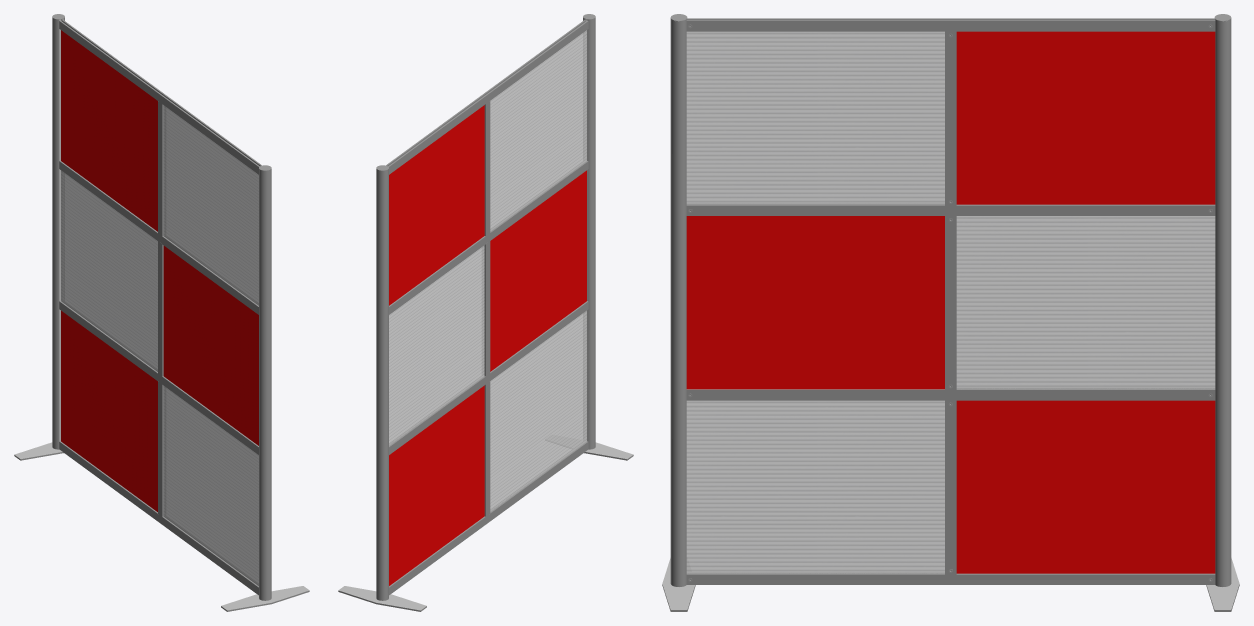
Rendered from Wall.fbx.
3 views of the same model, side by side, from view 1: azimuth 30°, elevation 25°; view 2: azimuth 150°, elevation 25°; view 3: azimuth 270°, elevation 25° (orthographic). The views are drawn at different scales.
Parts seen in each view (by area): view 1: Group3, Group2, Group4, Group7, Group6, Group8, Group_369_2, Group_369_1, Group_21_4, Group_21_2, Group_21_1, Group_21_3 (+5 smaller); view 2: Group7, Group6, Group8, Group3, Group2, Group4, Group_369_1, Group_369_2, Group_21_4, Group_21_2, Group_21_1, Group_21_3 (+5 smaller); view 3: Group2, Group3, Group4, Group6, Group7, Group8, Group_369_1, Group_369_2, Group_21_4, Group_21_1, Group_21_2, Group_21_3 (+5 smaller).
Part boxes in pixels (x1,y1,x2,y2): Group3: (61, 310, 157, 511); Group2: (61, 30, 157, 231); Group4: (61, 170, 157, 371); Group7: (163, 386, 258, 585); Group6: (163, 105, 258, 305); Group8: (163, 246, 258, 445); Group_369_2: (259, 169, 271, 600); Group_369_1: (52, 17, 64, 449); Group_21_4: (59, 20, 261, 174); Group_21_2: (59, 441, 258, 595); Group_21_1: (59, 301, 258, 454); Group_21_3: (59, 161, 258, 314); Group7: (490, 310, 586, 511); Group6: (490, 30, 586, 231); Group8: (490, 170, 586, 371); Group3: (389, 385, 484, 585); Group2: (389, 105, 484, 305); Group4: (389, 245, 484, 445); Group_369_1: (376, 169, 388, 600); Group_369_2: (583, 17, 595, 449); Group_21_4: (386, 20, 588, 174); Group_21_2: (389, 441, 588, 595); Group_21_1: (389, 301, 588, 454); Group_21_3: (389, 161, 588, 314); Group2: (956, 31, 1215, 204); Group3: (956, 400, 1215, 573); Group4: (956, 216, 1215, 389); Group6: (686, 31, 944, 204); Group7: (686, 400, 944, 573); Group8: (686, 216, 944, 389); Group_369_1: (1215, 18, 1231, 586); Group_369_2: (670, 18, 686, 586); Group_21_4: (686, 18, 1215, 31); Group_21_1: (686, 388, 1215, 400); Group_21_2: (686, 573, 1215, 584); Group_21_3: (686, 204, 1215, 215).
Size of the model in its own units: 15 by 75.06 by 69.14.
